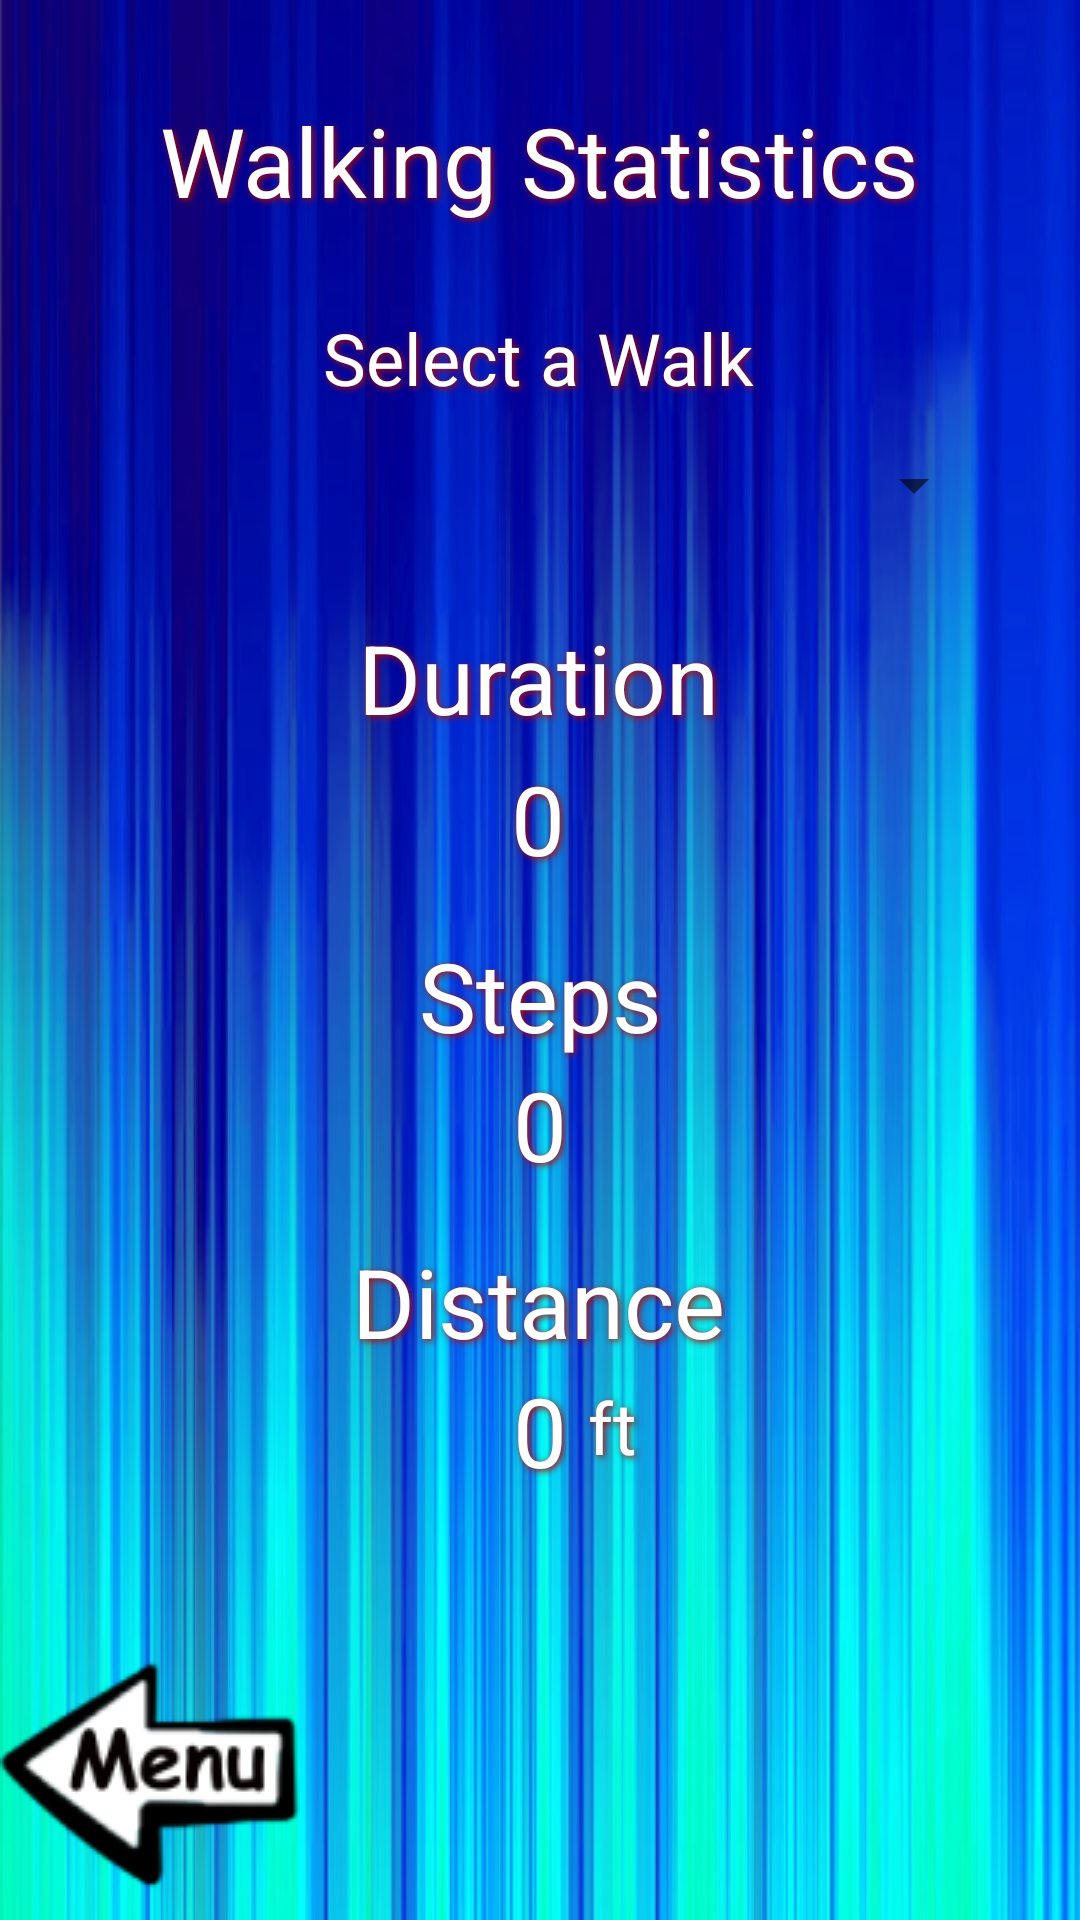

Icons on this 1080w x 1920h Android screen, each with the point to tap as [x,y]:
arrow: [150,1770]
